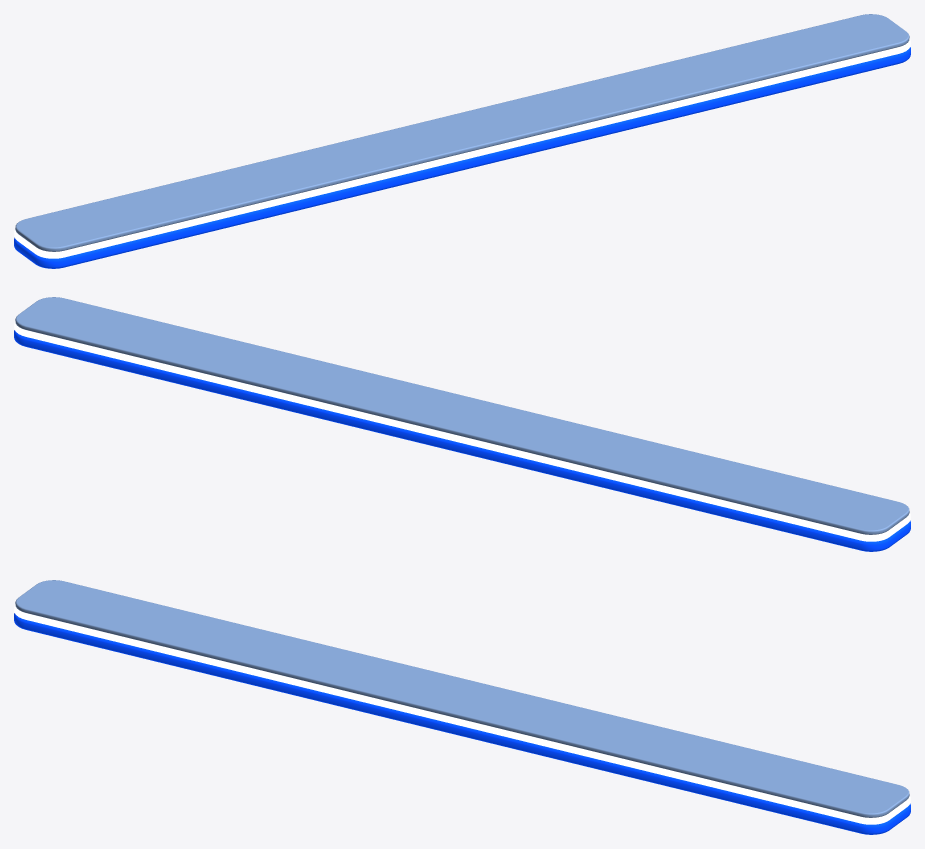
File: 09-nodeworks-led-strip.glb
3 renders of one model, top to bottom at view 1: azimuth 30°, elevation 25°; view 2: azimuth 150°, elevation 25°; view 3: azimuth 330°, elevation 25°, orthographic.
Parts seen in each view (by area): view 1: pale_blue_top_inlay, cobalt_blue_base, white_emissive_band; view 2: pale_blue_top_inlay, cobalt_blue_base, white_emissive_band; view 3: pale_blue_top_inlay, cobalt_blue_base, white_emissive_band.
Boxes of the visible parts, x1,y1,x2,y2 form: pale_blue_top_inlay: (15,14,909,251); cobalt_blue_base: (14,47,910,268); white_emissive_band: (14,38,910,258); pale_blue_top_inlay: (15,297,909,534); cobalt_blue_base: (14,330,910,551); white_emissive_band: (14,321,910,541); pale_blue_top_inlay: (15,580,909,817); cobalt_blue_base: (14,613,910,834); white_emissive_band: (14,604,910,824).
Bounding box in the file's own units: 2.3 × 0.054 × 0.18.
